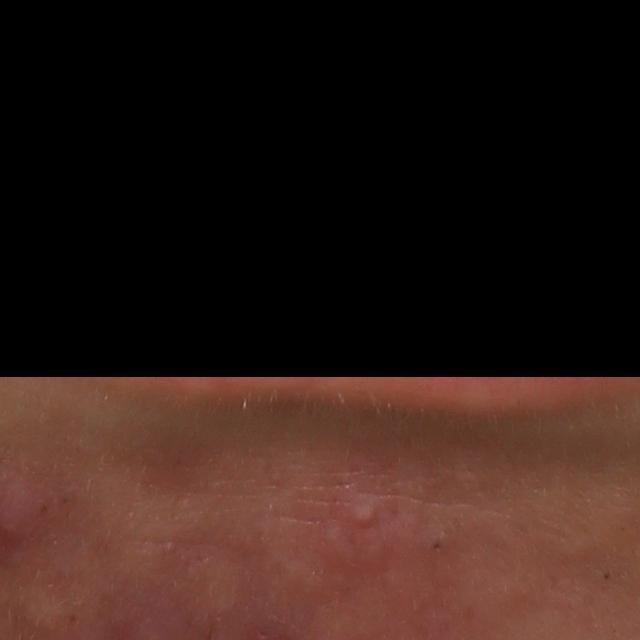papule: (177, 542, 241, 627), (345, 494, 380, 532)
